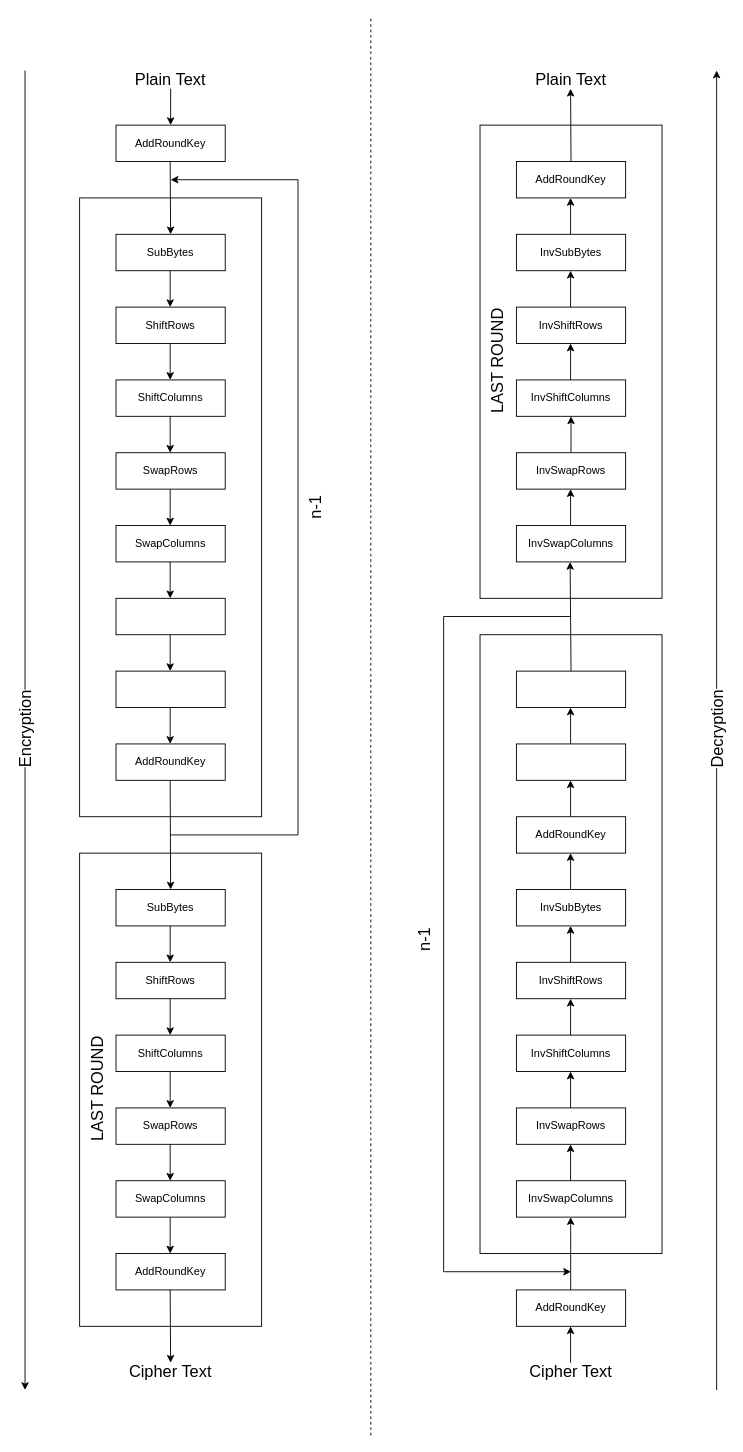
Image size: 743x1452. Some labels were removed from this diagram. The box of each missing label's shape, as (x1, y1, x2, y2) in pixels:
InvMixColumns: (516, 743, 626, 780)
InvMixRows: (516, 670, 626, 708)
MixColumns: (115, 670, 225, 708)
MixRows: (115, 597, 225, 635)
